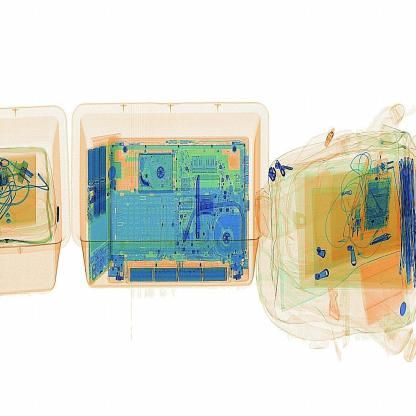pliers: (178, 164, 219, 253)
